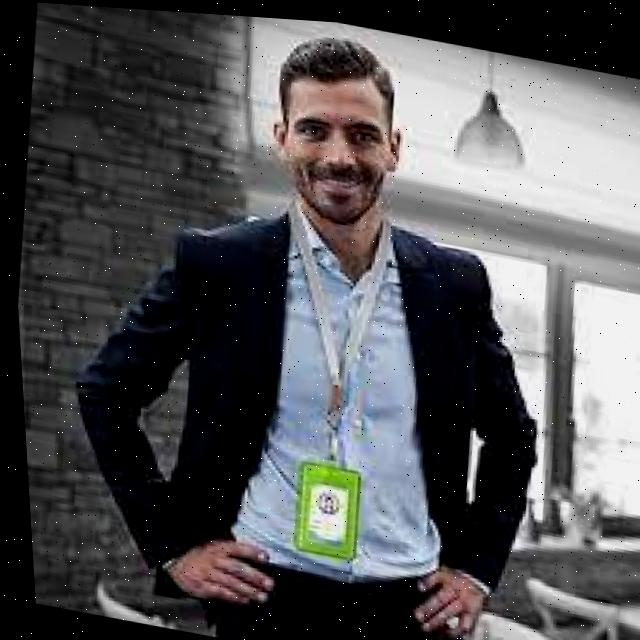id_card: (240, 213, 415, 575)
